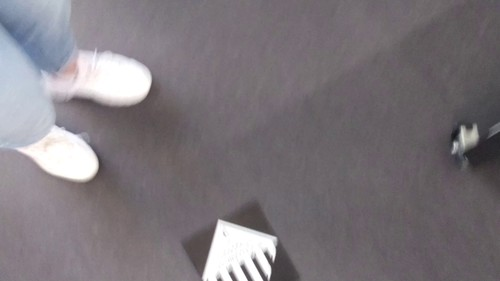misgoods: (187, 215, 284, 281)
